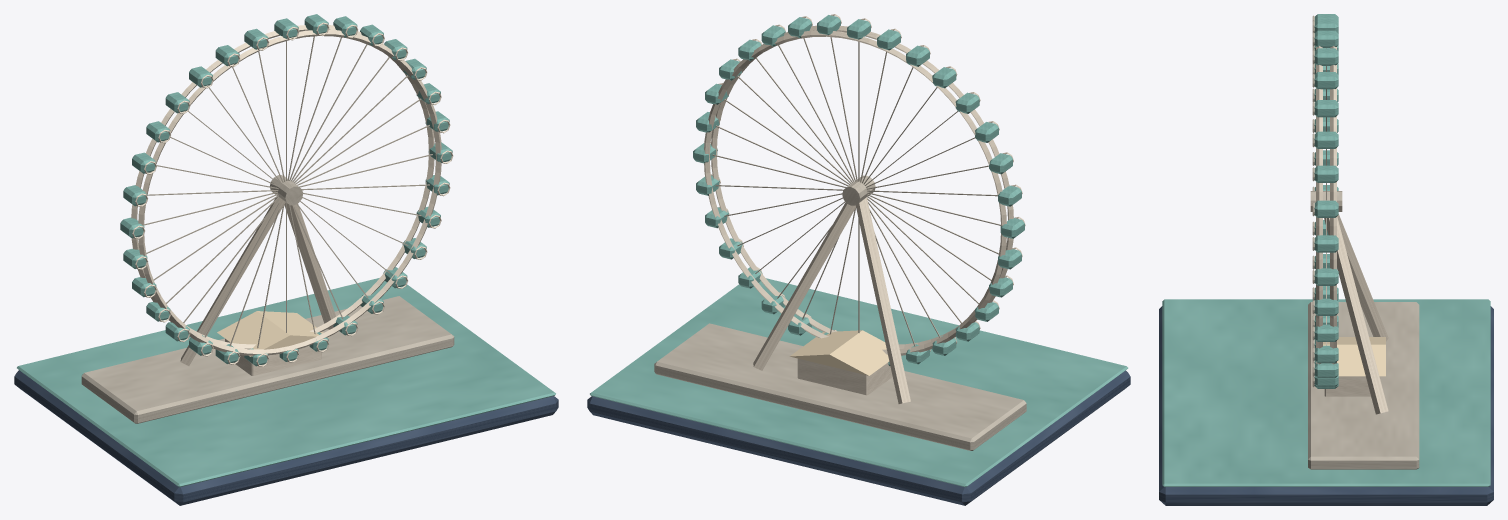
File: london-eye-diorama.glb
The picture shows the model from 3 angles, left to right: view 1: azimuth 30°, elevation 25°; view 2: azimuth 150°, elevation 25°; view 3: azimuth 270°, elevation 25°; orthographic projection.
Visible parts, largest first — view 1: london-eye; view 2: london-eye; view 3: london-eye.
Boxes of the visible parts, left/top/right/bottom form: london-eye: left=14, top=14, right=558, bottom=505; london-eye: left=587, top=14, right=1130, bottom=505; london-eye: left=1159, top=14, right=1493, bottom=505.
Bounding box in the file's own units: 12 × 11.33 × 9.
Materials: 1 (1 with a texture image).
